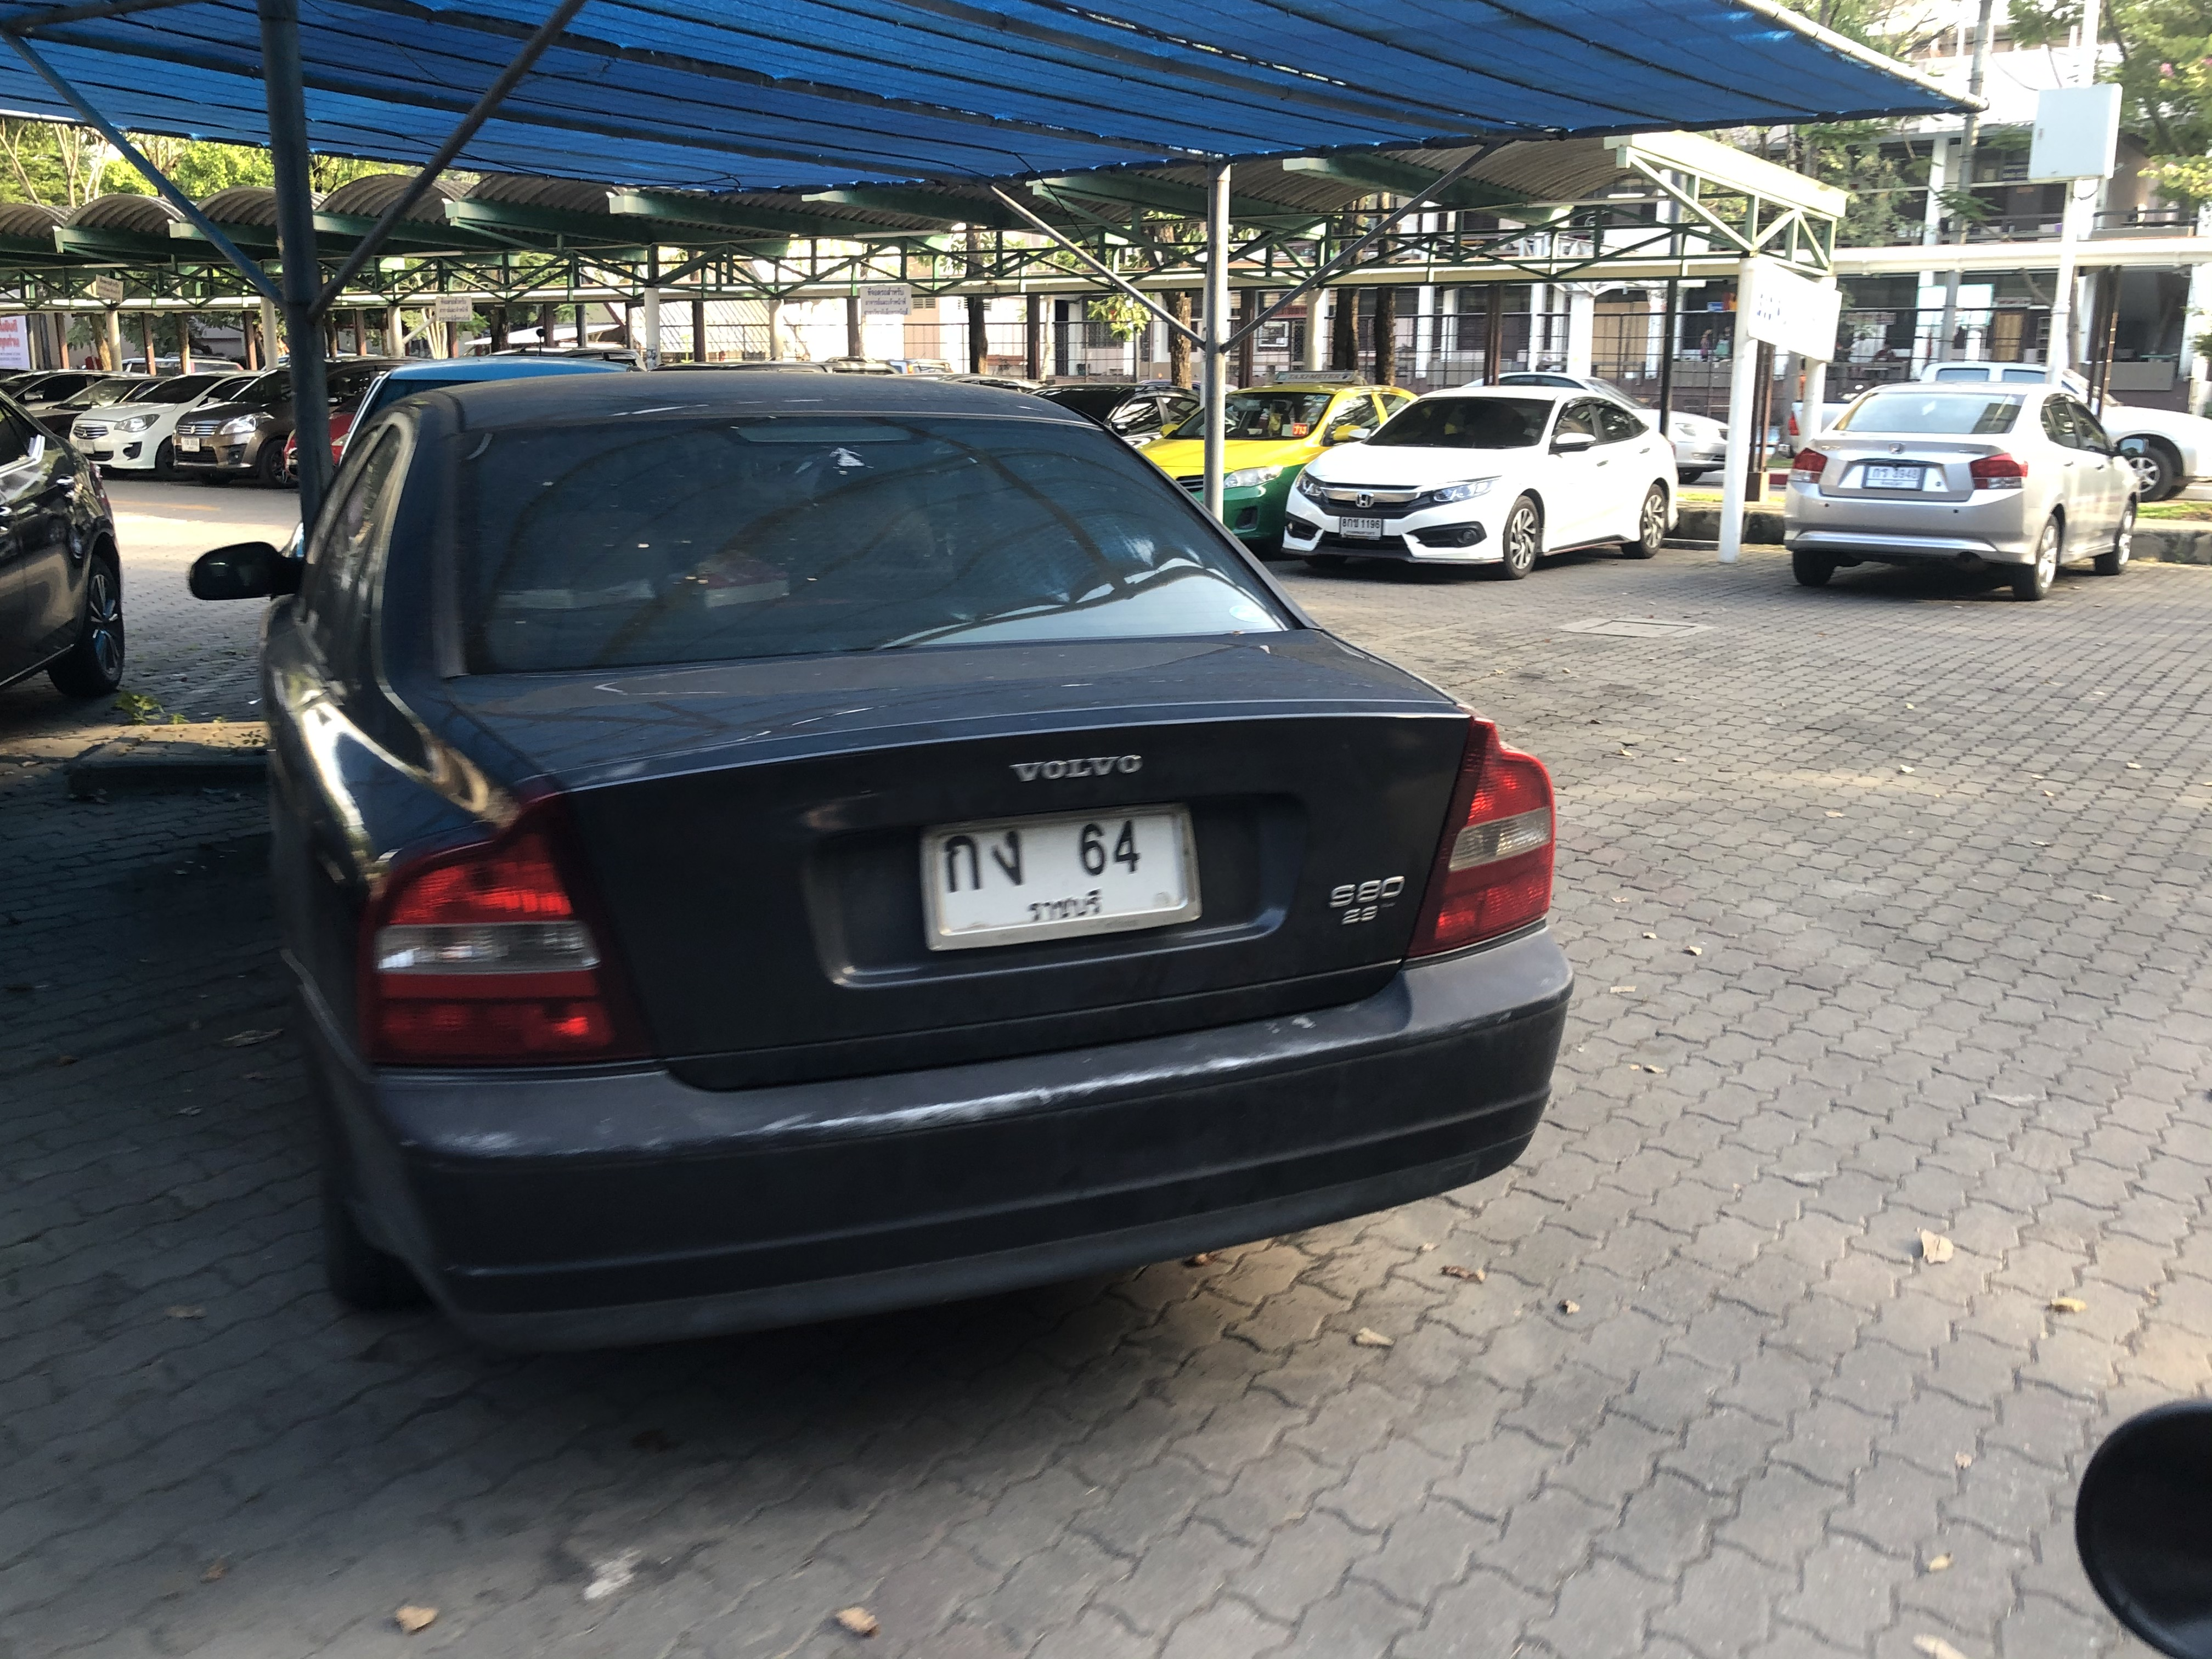in: (932, 816, 1188, 925)
out: (923, 796, 1209, 951)
